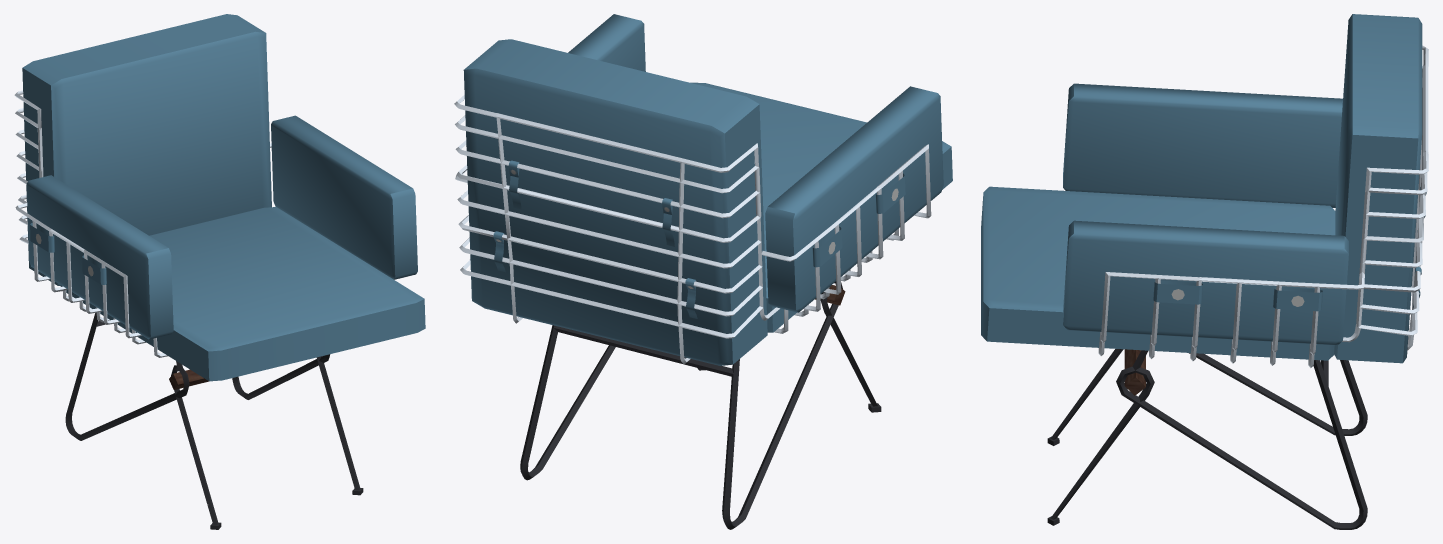
Rendered from LC_3007_Chair_C_LOD2.FBX.
The picture shows the model from 3 angles, left to right: view 1: azimuth 30°, elevation 25°; view 2: azimuth 150°, elevation 25°; view 3: azimuth 270°, elevation 25°; orthographic projection. The views are drawn at different scales.
Parts seen in each view (by area): view 1: LC_3007_Chair_C_LOD2; view 2: LC_3007_Chair_C_LOD2; view 3: LC_3007_Chair_C_LOD2.
Part boxes in pixels (x1=…): LC_3007_Chair_C_LOD2: x1=14, y1=14, x2=425, y2=529; LC_3007_Chair_C_LOD2: x1=454, y1=14, x2=952, y2=529; LC_3007_Chair_C_LOD2: x1=981, y1=14, x2=1428, y2=529.
Bounding box in the file's own units: 51.05 × 61.09 × 59.89.
